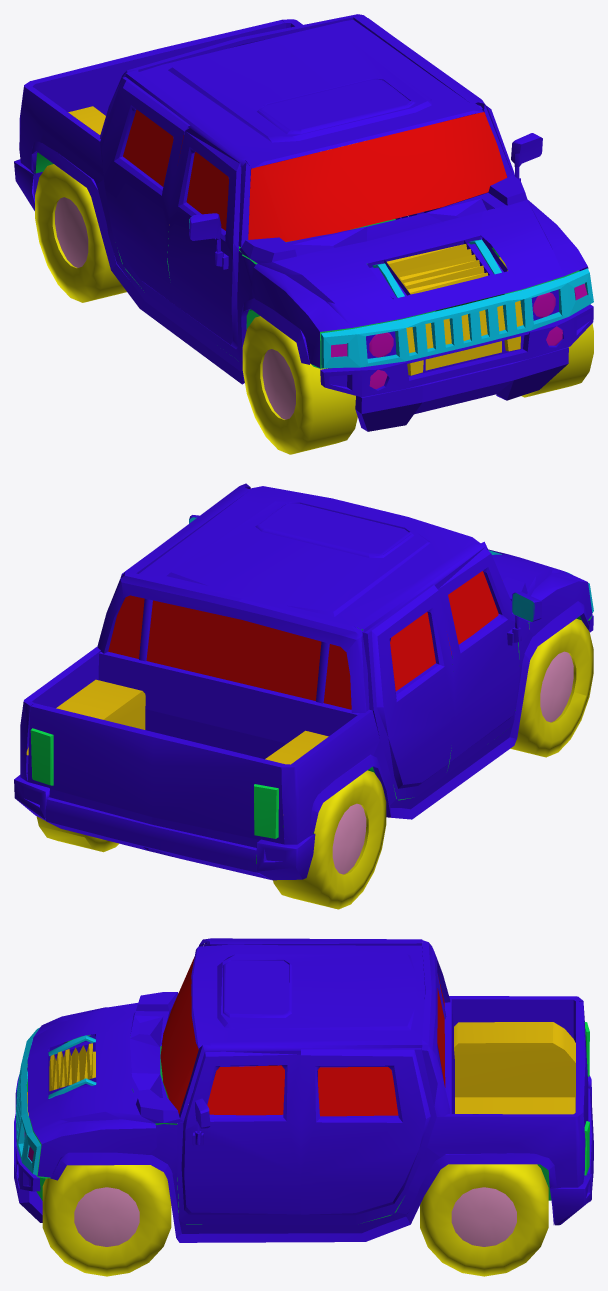
The model's file is Car12_Low_ColorCoded.fbx.
The picture shows the model from 3 angles, top to bottom: view 1: azimuth 30°, elevation 25°; view 2: azimuth 150°, elevation 25°; view 3: azimuth 270°, elevation 25°; orthographic projection. The views are drawn at different scales.
Parts seen in each view (by area): view 1: carBody_low, tireFrontR_low, tireBackR_low, tireFrontL_low; view 2: carBody_low, tireBackR_low, tireFrontR_low, tireBackL_low; view 3: carBody_low, tireFrontL_low, tireBackL_low.
Part boxes in pixels (x1,y1,x2,y2): carBody_low: [14, 14, 593, 431]; tireFrontR_low: [242, 316, 357, 454]; tireBackR_low: [35, 164, 126, 302]; tireFrontL_low: [499, 257, 593, 397]; carBody_low: [14, 483, 593, 880]; tireBackR_low: [273, 770, 386, 909]; tireFrontR_low: [510, 618, 593, 757]; tireBackL_low: [36, 816, 118, 852]; carBody_low: [14, 938, 593, 1242]; tireFrontL_low: [42, 1165, 171, 1276]; tireBackL_low: [420, 1164, 548, 1276].
Bounding box in the file's own units: 76.88 × 121 × 52.34.
